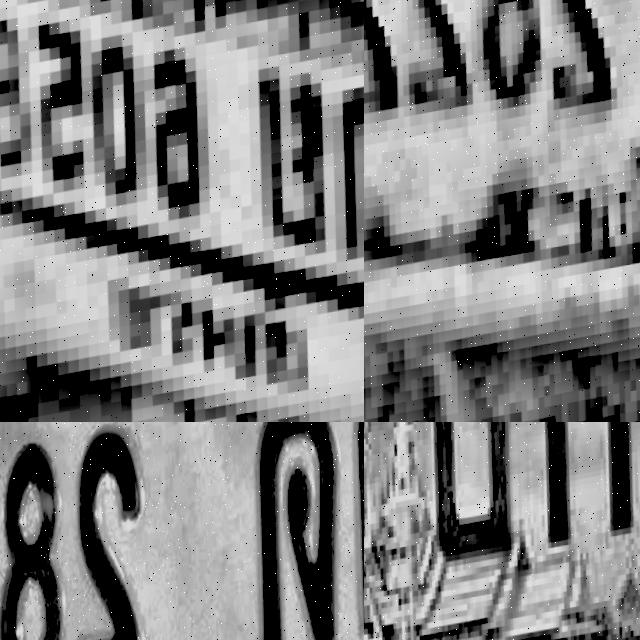license-plate: (0, 0, 364, 422), (364, 0, 640, 422), (0, 422, 364, 640), (364, 422, 640, 640)
